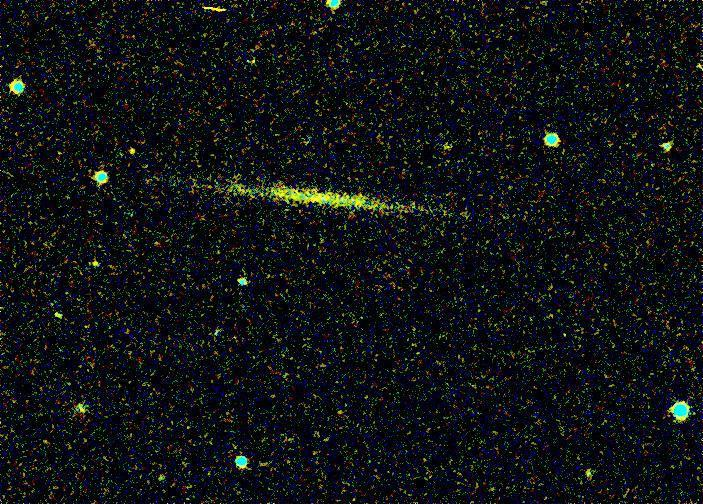star: (106, 135, 136, 165)
